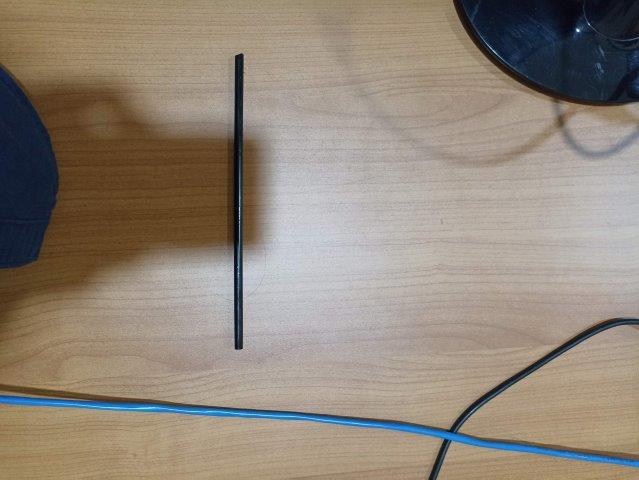sedotan: (234, 53, 244, 350)
